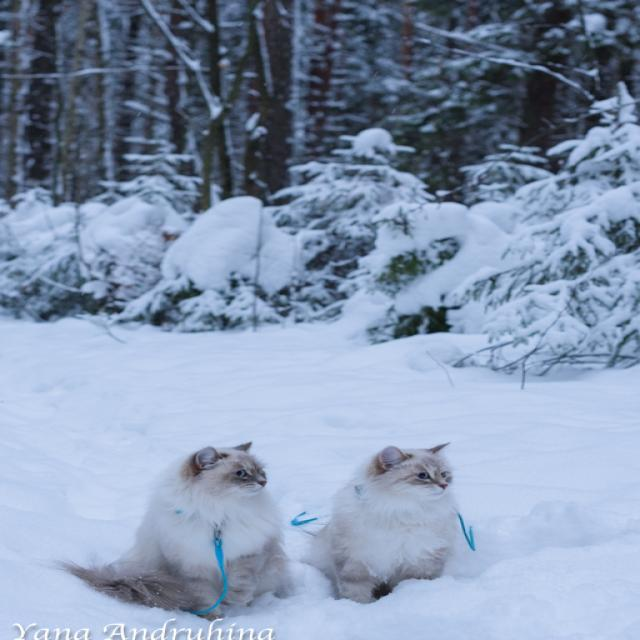Neva Masquerade: (60, 437, 298, 624), (302, 437, 472, 607)
